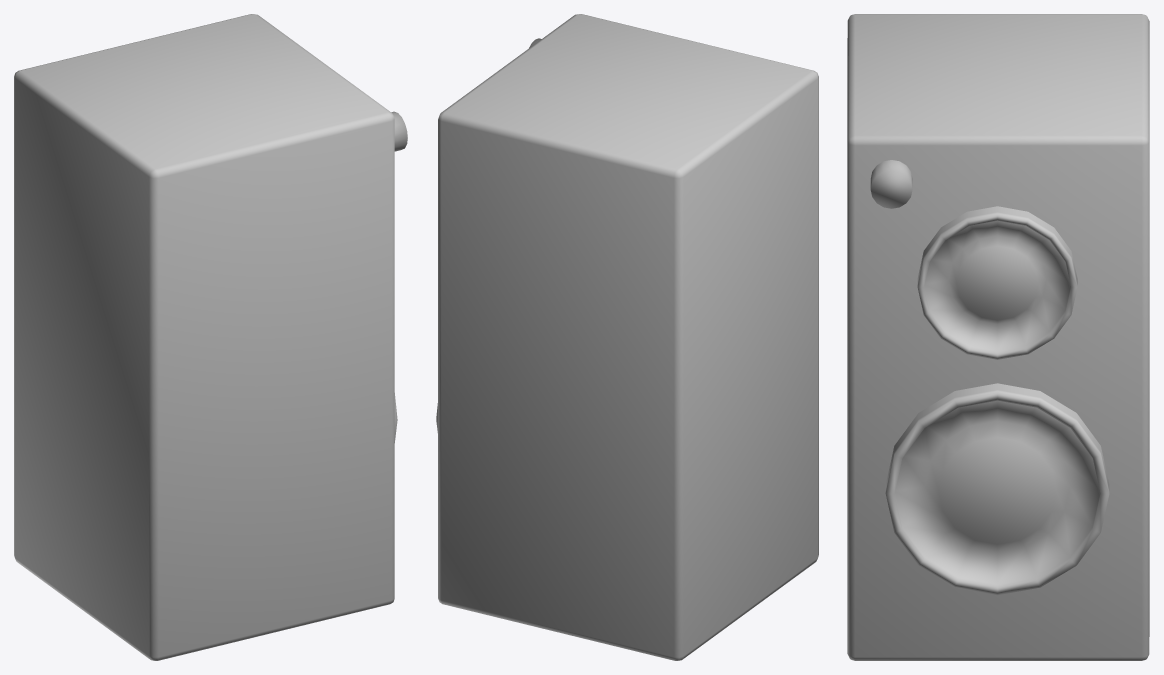
The model's file is speaker_sp.gltf.
The picture shows the model from 3 angles, left to right: view 1: azimuth 30°, elevation 25°; view 2: azimuth 150°, elevation 25°; view 3: azimuth 270°, elevation 25°; orthographic projection. The views are drawn at different scales.
Parts seen in each view (by area): view 1: Cube.007; view 2: Cube.007; view 3: Cube.007, Cylinder.008, Cylinder.007, Cylinder.
Part boxes in pixels (left/top/right/bottom): Cube.007: left=14, top=14, right=394, bottom=660; Cube.007: left=438, top=14, right=818, bottom=660; Cube.007: left=847, top=14, right=1149, bottom=660; Cylinder.008: left=885, top=383, right=1109, bottom=595; Cylinder.007: left=917, top=206, right=1077, bottom=359; Cylinder: left=870, top=160, right=912, bottom=208.
Bounding box in the file's own units: 1.48 × 2.62 × 1.37.
